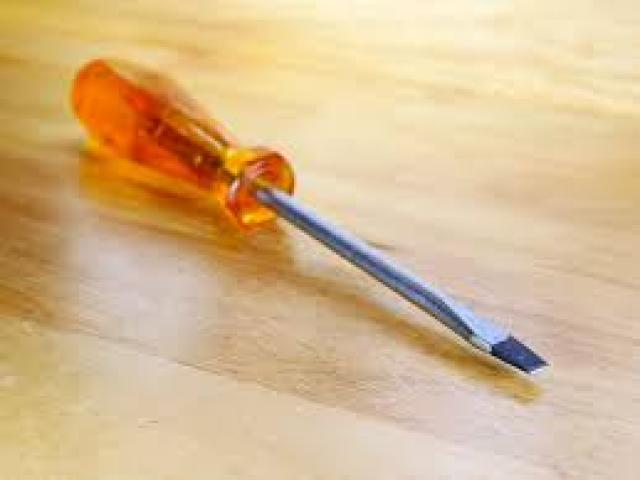Screwdriver: (71, 59, 546, 372)
